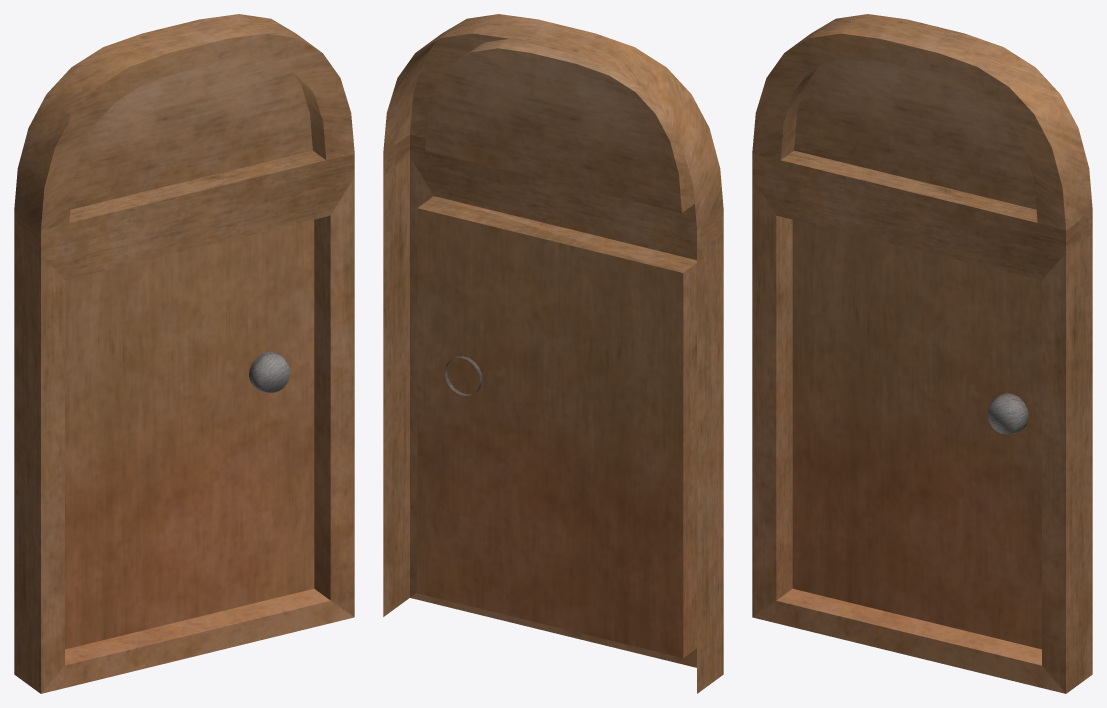
Rendered from door.fbx.
The picture shows the model from 3 angles, left to right: view 1: azimuth 30°, elevation 25°; view 2: azimuth 150°, elevation 25°; view 3: azimuth 330°, elevation 25°; orthographic projection.
Visible parts, largest first — view 1: Cylinder013; view 2: Cylinder013; view 3: Cylinder013.
Boxes of the visible parts, bbox=[...] form: Cylinder013: bbox=[14, 14, 354, 693]; Cylinder013: bbox=[383, 14, 723, 693]; Cylinder013: bbox=[752, 14, 1092, 693].
Size of the model in its own units: 157 by 291 by 23.11.
